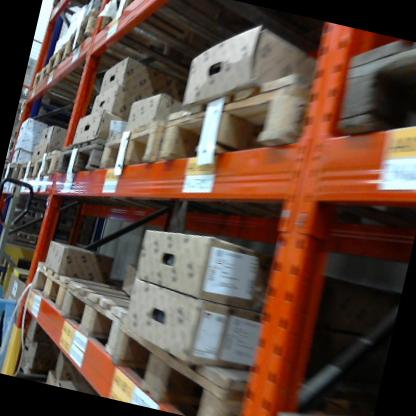pallet: (102, 293, 359, 416), (158, 42, 333, 195), (53, 266, 248, 391), (44, 0, 231, 118), (327, 28, 416, 156), (23, 252, 143, 334), (33, 31, 153, 108), (97, 0, 245, 61), (97, 103, 189, 190), (53, 124, 112, 192), (277, 382, 376, 416), (30, 63, 101, 110), (31, 143, 61, 187), (14, 156, 42, 191), (2, 157, 25, 185), (9, 135, 24, 153)
pallet_truck: (0, 164, 50, 368), (0, 171, 28, 297)
